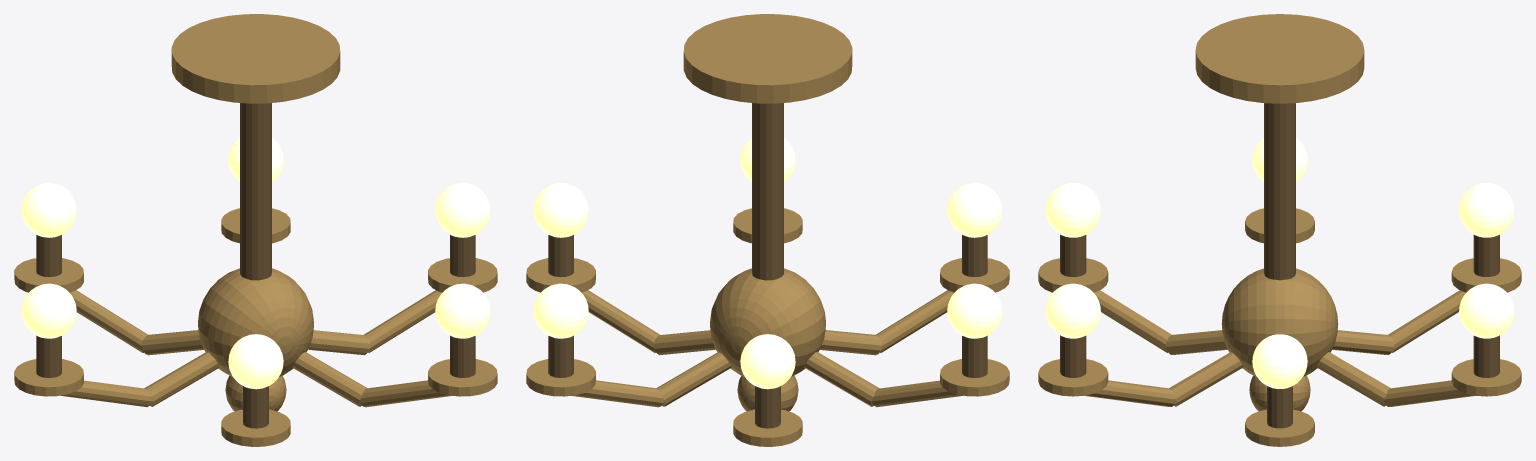
Rendered from warm-chandelier.glb.
The picture shows the model from 3 angles, left to right: view 1: azimuth 30°, elevation 25°; view 2: azimuth 150°, elevation 25°; view 3: azimuth 270°, elevation 25°; orthographic projection.
Parts seen in each view (by area): view 1: Chandelier_Brass, Chandelier_Warm_Glass, Chandelier_Dark_Brass; view 2: Chandelier_Brass, Chandelier_Warm_Glass, Chandelier_Dark_Brass; view 3: Chandelier_Brass, Chandelier_Warm_Glass, Chandelier_Dark_Brass.
Part boxes in pixels (x1,y1,x2,y2): Chandelier_Brass: [14, 14, 497, 446]; Chandelier_Warm_Glass: [21, 137, 490, 389]; Chandelier_Dark_Brass: [36, 103, 475, 428]; Chandelier_Brass: [526, 14, 1009, 446]; Chandelier_Warm_Glass: [533, 137, 1002, 389]; Chandelier_Dark_Brass: [548, 103, 987, 428]; Chandelier_Brass: [1038, 14, 1521, 446]; Chandelier_Warm_Glass: [1045, 137, 1514, 388]; Chandelier_Dark_Brass: [1060, 103, 1499, 428].
Size of the model in its own units: 1.88 by 1.46 by 1.66.
